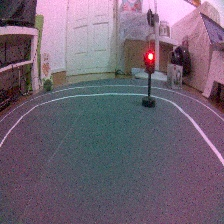red: (140, 50, 159, 108)
